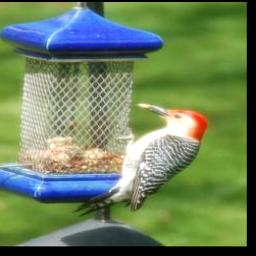Woodpecker: (64, 98, 208, 221)
